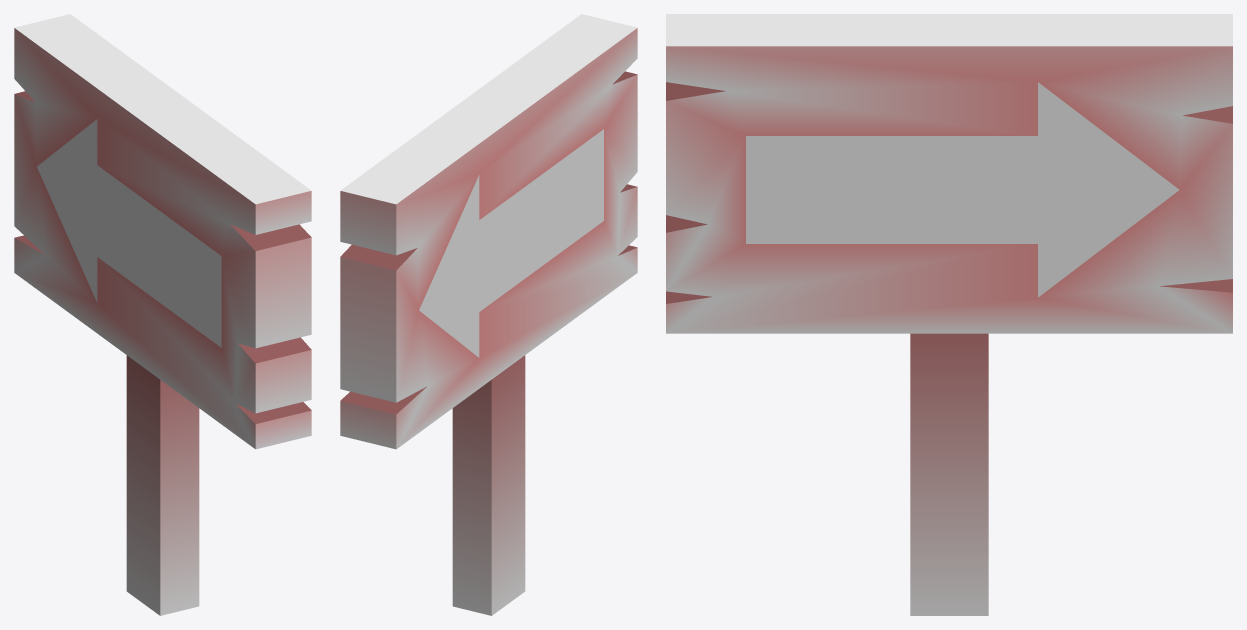
The model's file is arrow_sign.glb.
The picture shows the model from 3 angles, left to right: view 1: azimuth 30°, elevation 25°; view 2: azimuth 150°, elevation 25°; view 3: azimuth 270°, elevation 25°; orthographic projection. The views are drawn at different scales.
Parts seen in each view (by area): view 1: m0_VC; view 2: m0_VC; view 3: m0_VC.
Boxes of the visible parts, x1,y1,x2,y2 form: m0_VC: (14, 14, 311, 615); m0_VC: (340, 14, 637, 615); m0_VC: (666, 14, 1232, 615).
Bounding box in the file's own units: 0.4159 × 3.46 × 3.1.
1 material, 1 textured.
